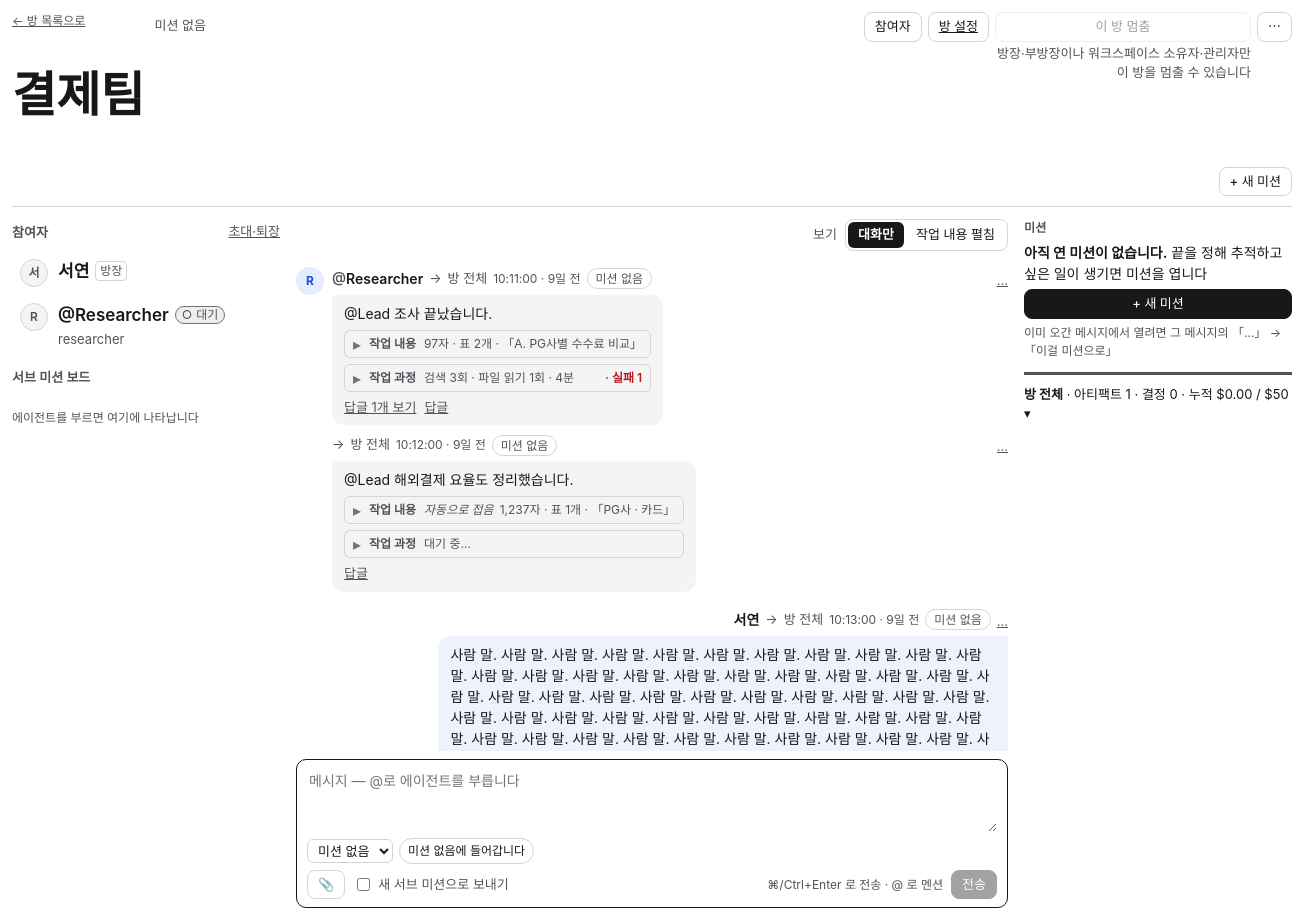
세 층 — 대화만 기본, 접힌 줄, 없는 층은 줄이 없다 › 폴백 — detail 없는 1,200자 초과 본문은 첫 문단만 대화, 나머지(표 포함)는 「작업 내용 · 자동으로 접음」
The width and height of the screenshot is (1304, 912).
Expected: the element with test id "room-title" is shown, x1=12 y1=65 x2=144 y2=124
Expected: the element with class "msg__body" reads "@Lead 해외결제 요율도 정리했습니다.", x1=344 y1=471 x2=574 y2=488
Click the 2nd button with test id "detail-fold" at (514, 510), box x1=344 y1=496 x2=684 y2=524
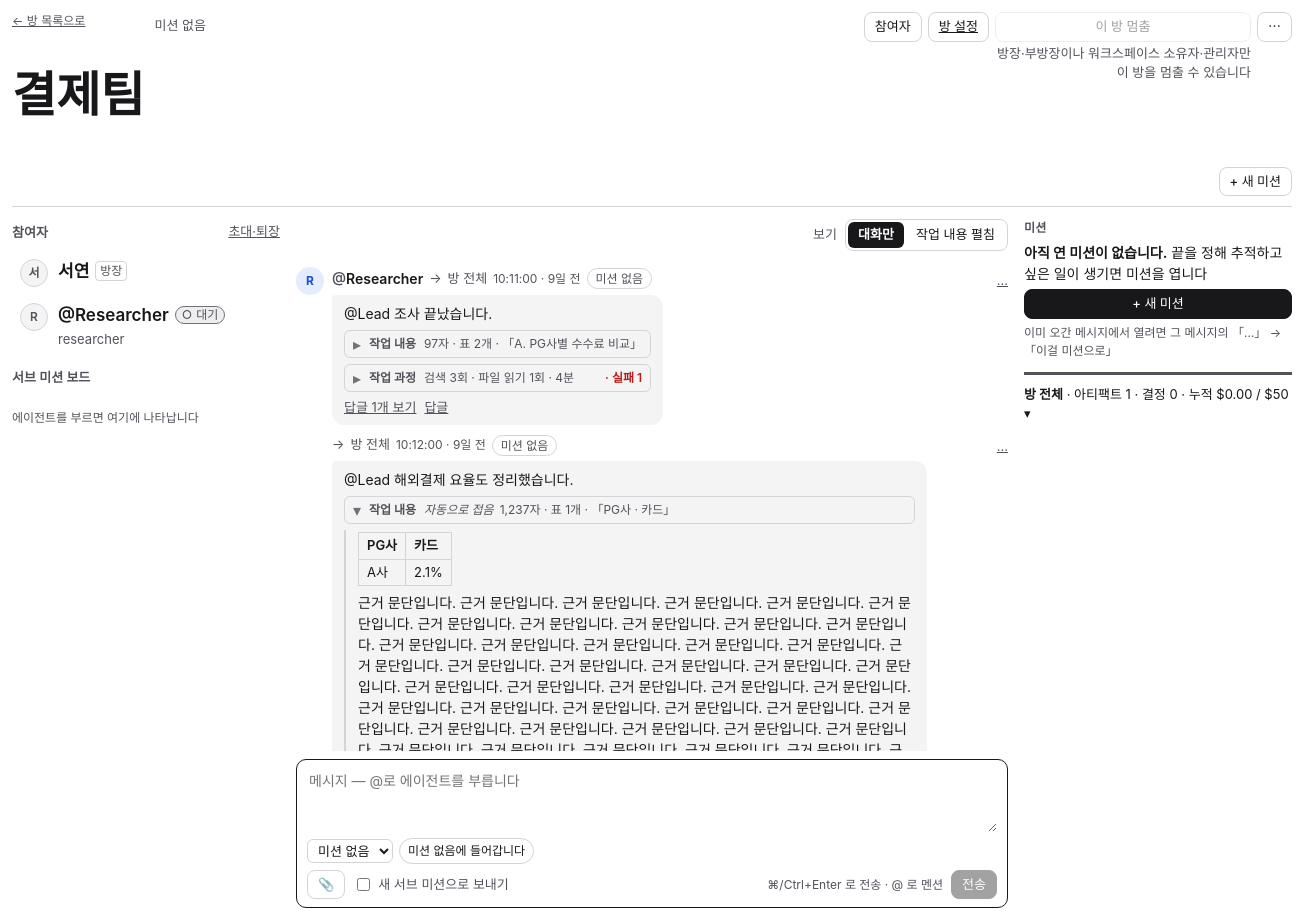
Expected: the table with class "md-table" is shown, x1=358 y1=532 x2=452 y2=586
